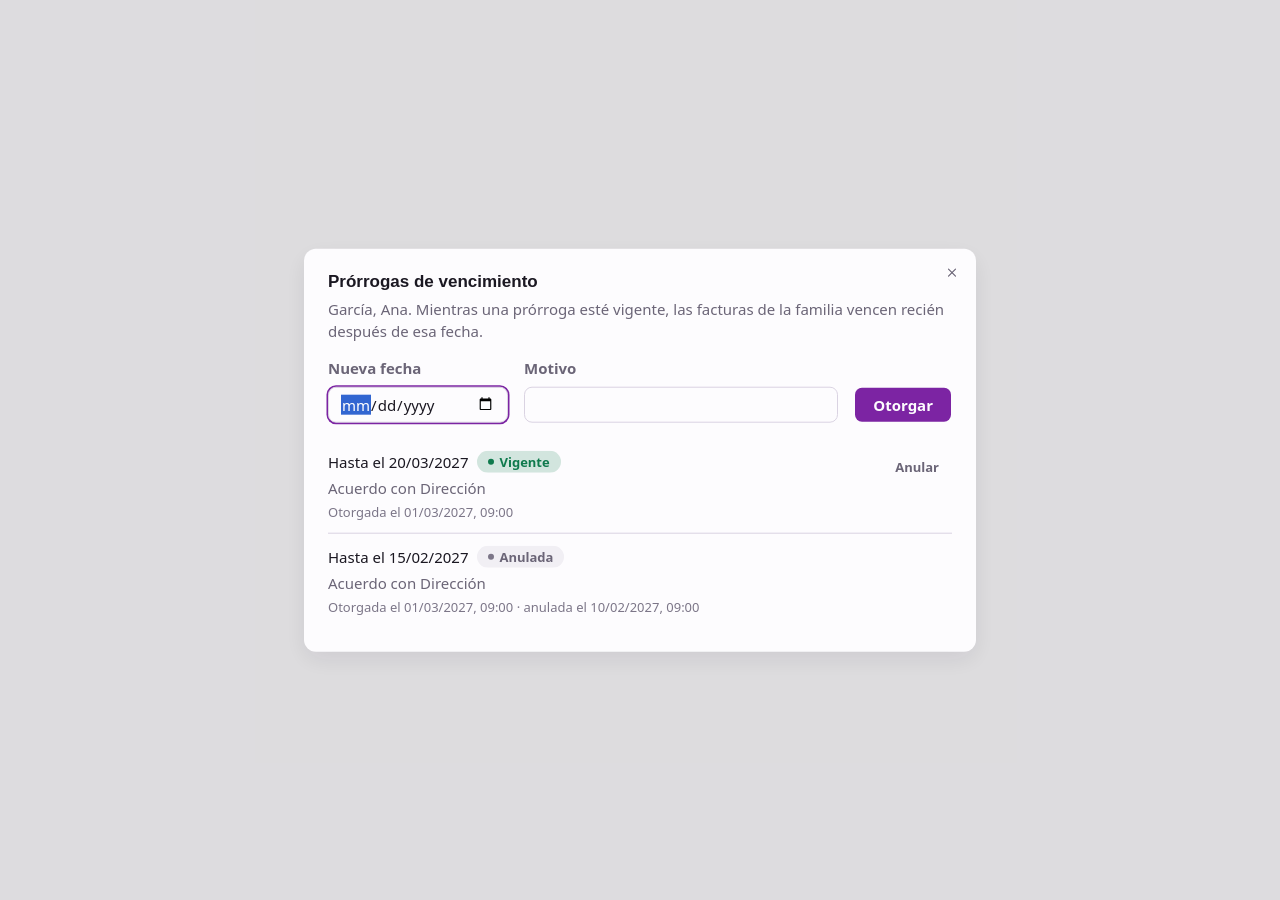
Test: ExcepcionesVencimientoDialog › exige fecha y motivo antes de otorgar
What coordinates should you click on to do the following:
click the button "Otorgar"
I would click on:
 (903, 404)
Its box is [854,386,952,422].
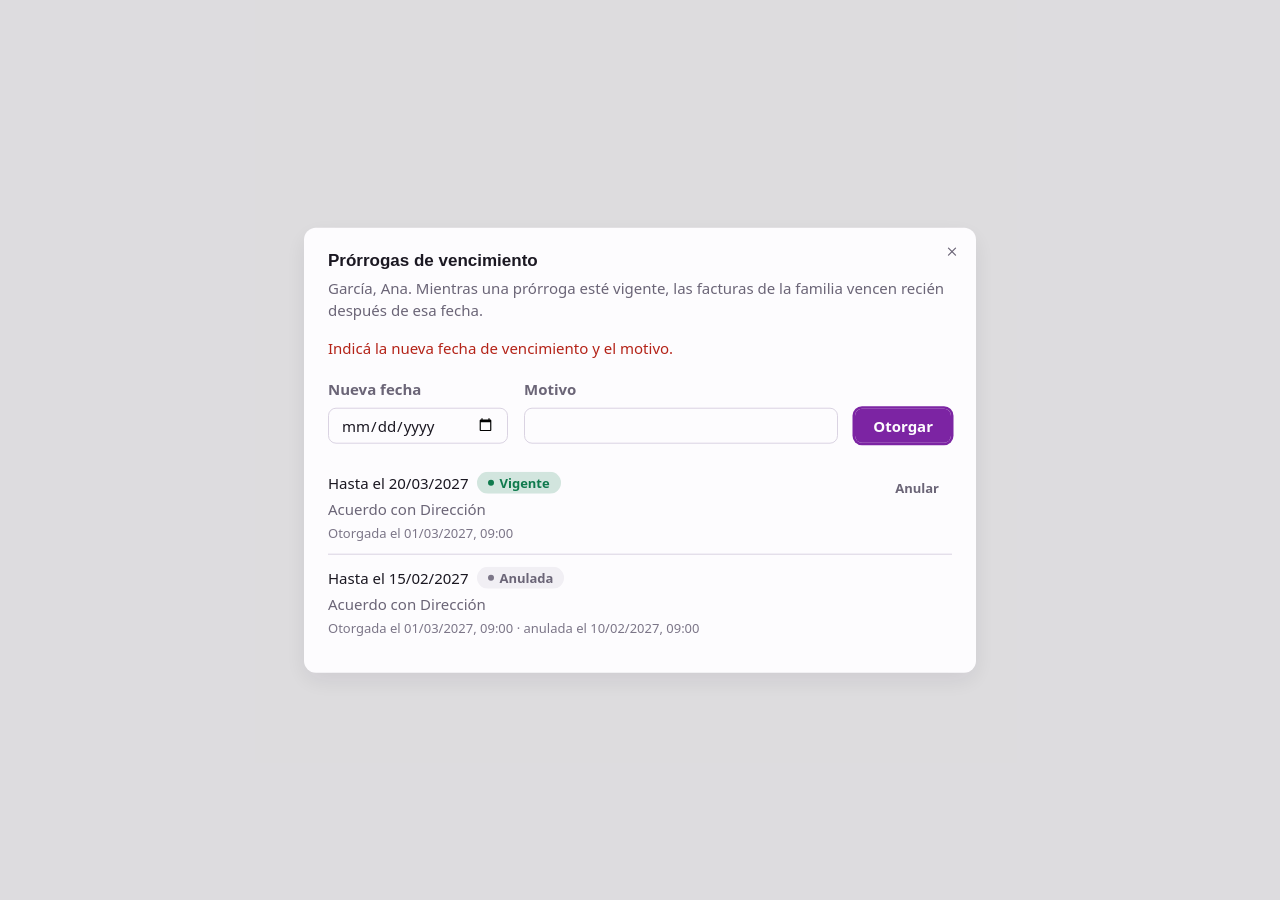
expect the message shows "fecha de vencimiento y el motivo": met, box [328,338,673,358]
